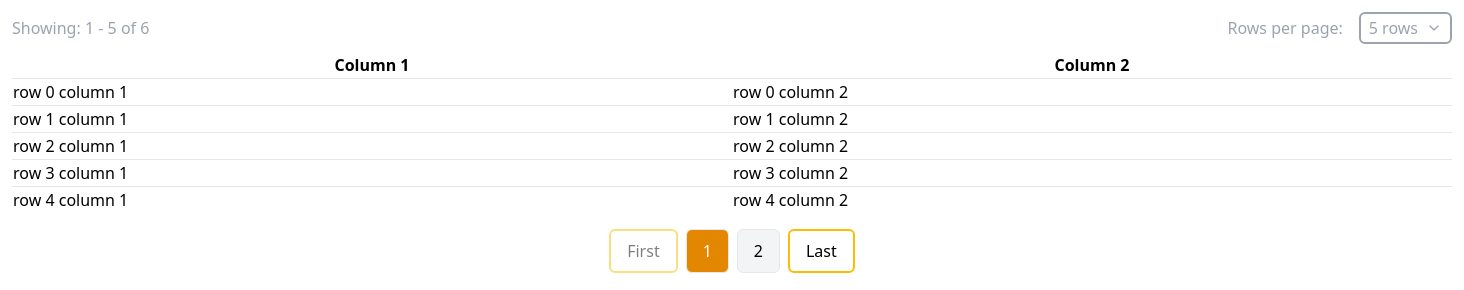
Test case: GenericTable › test changing rows per page leading to less total pages
The image size is (1464, 290).
Click the button "Last". click: point(821, 251)
box: [788,229,855,273]
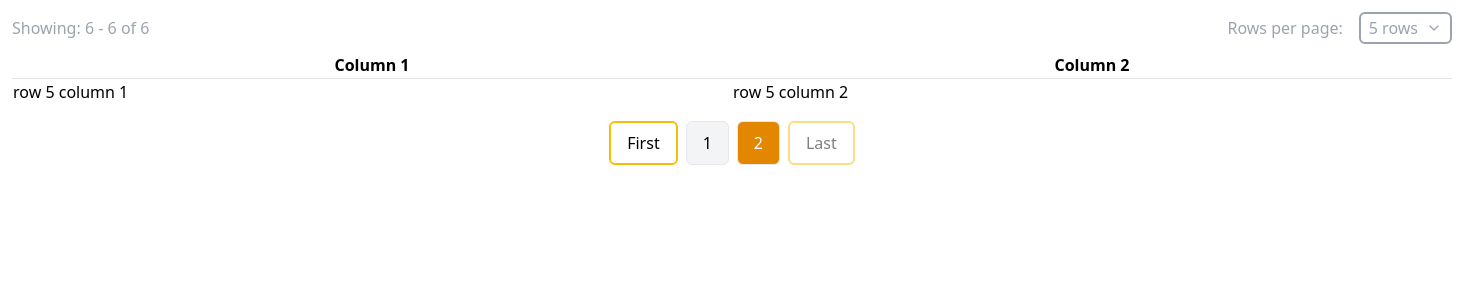
Check: the text "row 5 column 1" is shown, box [12,78,732,105]
Click the button "5 rows". click: point(1405, 28)
box: [1359,12,1452,44]
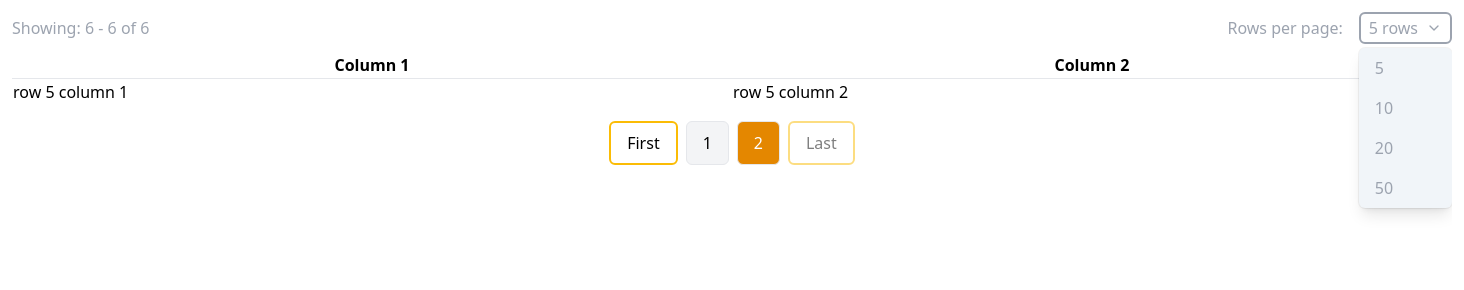
Check: the button "10" is shown
Click the button "10". click: point(1405, 108)
box: [1359,88,1452,128]
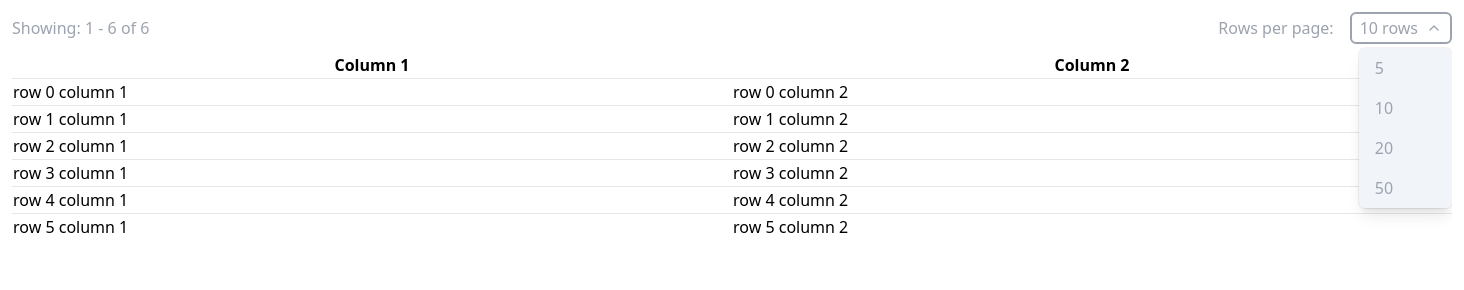
Check: the text "row 0 column 1" is shown, box [12,78,732,106]
